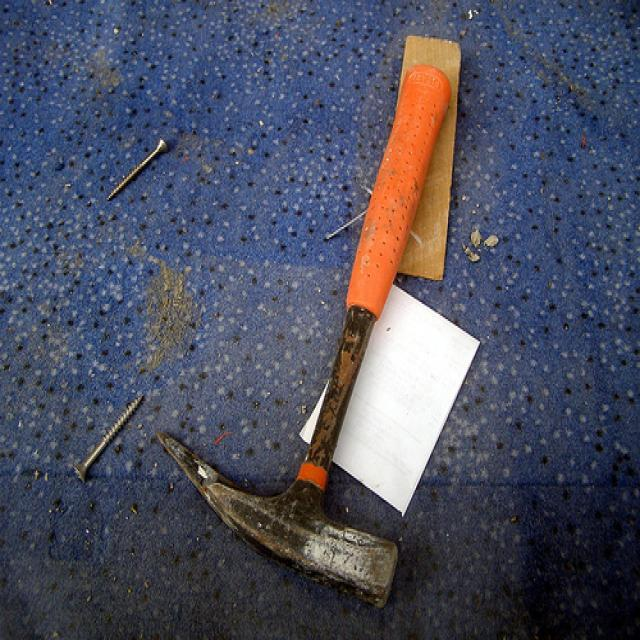hammer: (142, 54, 467, 614)
